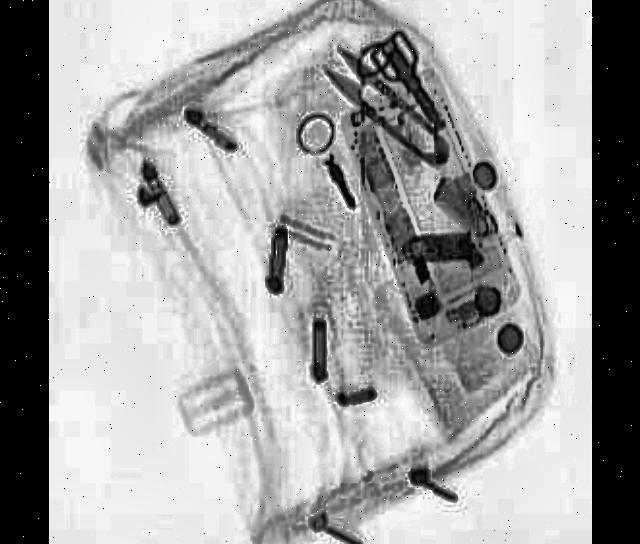Scissors: (319, 46, 451, 182)
